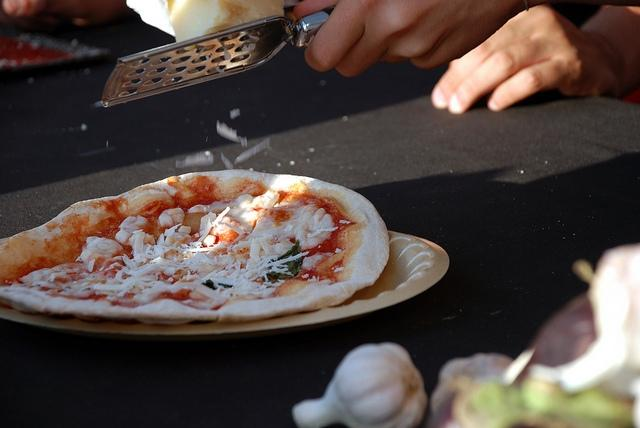garlic: (557, 242, 640, 392), (292, 342, 428, 428), (428, 353, 514, 427)
